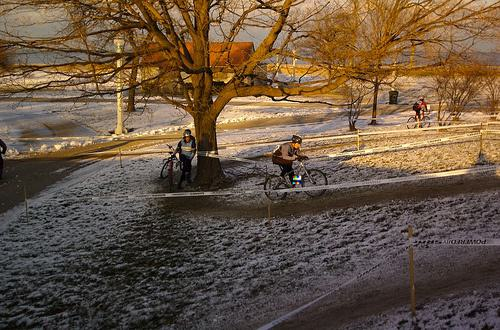car: (262, 158, 332, 202)
person: (269, 136, 309, 192), (174, 131, 197, 189)
